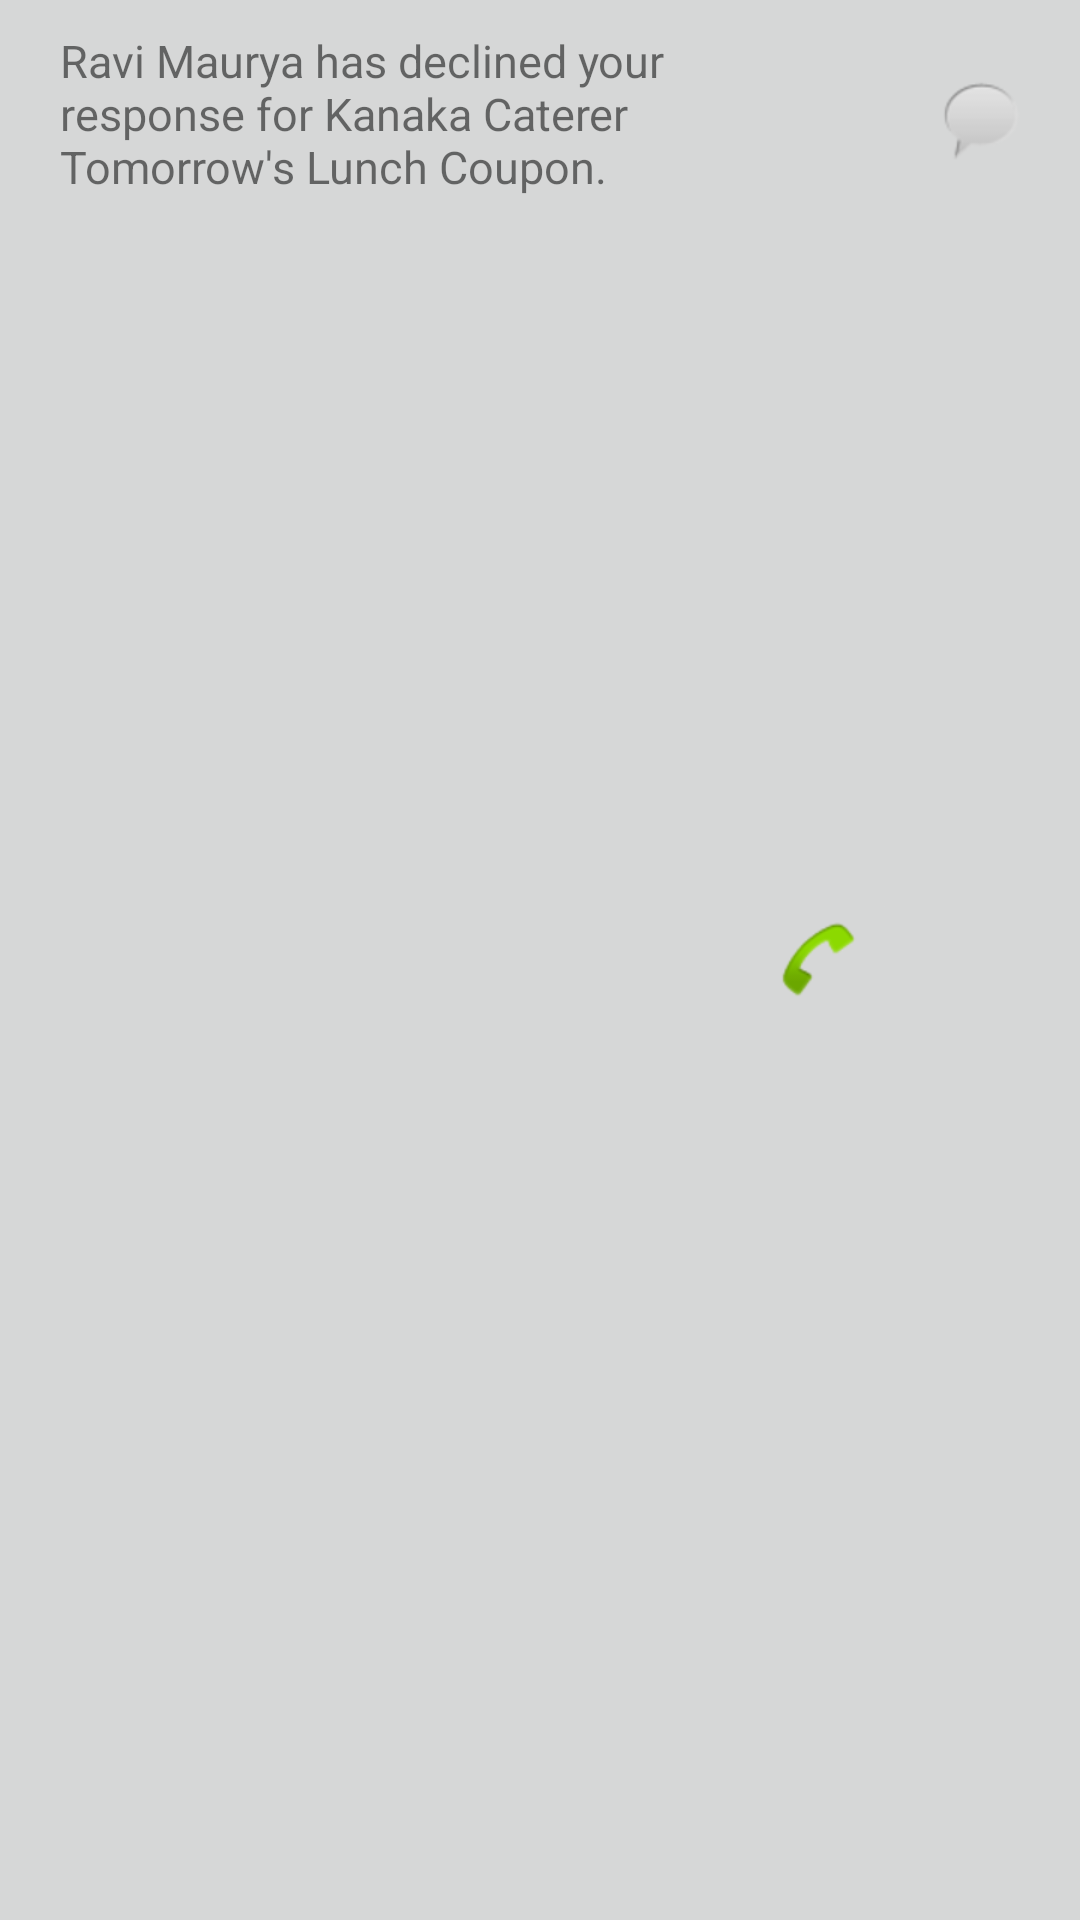

Icon bounding boxes for this 1080 x 1920 phone screenshot, format (x1, y1, x2, y2):
sym action call: (782, 923, 855, 996)
sym action chat: (945, 84, 1005, 157)
